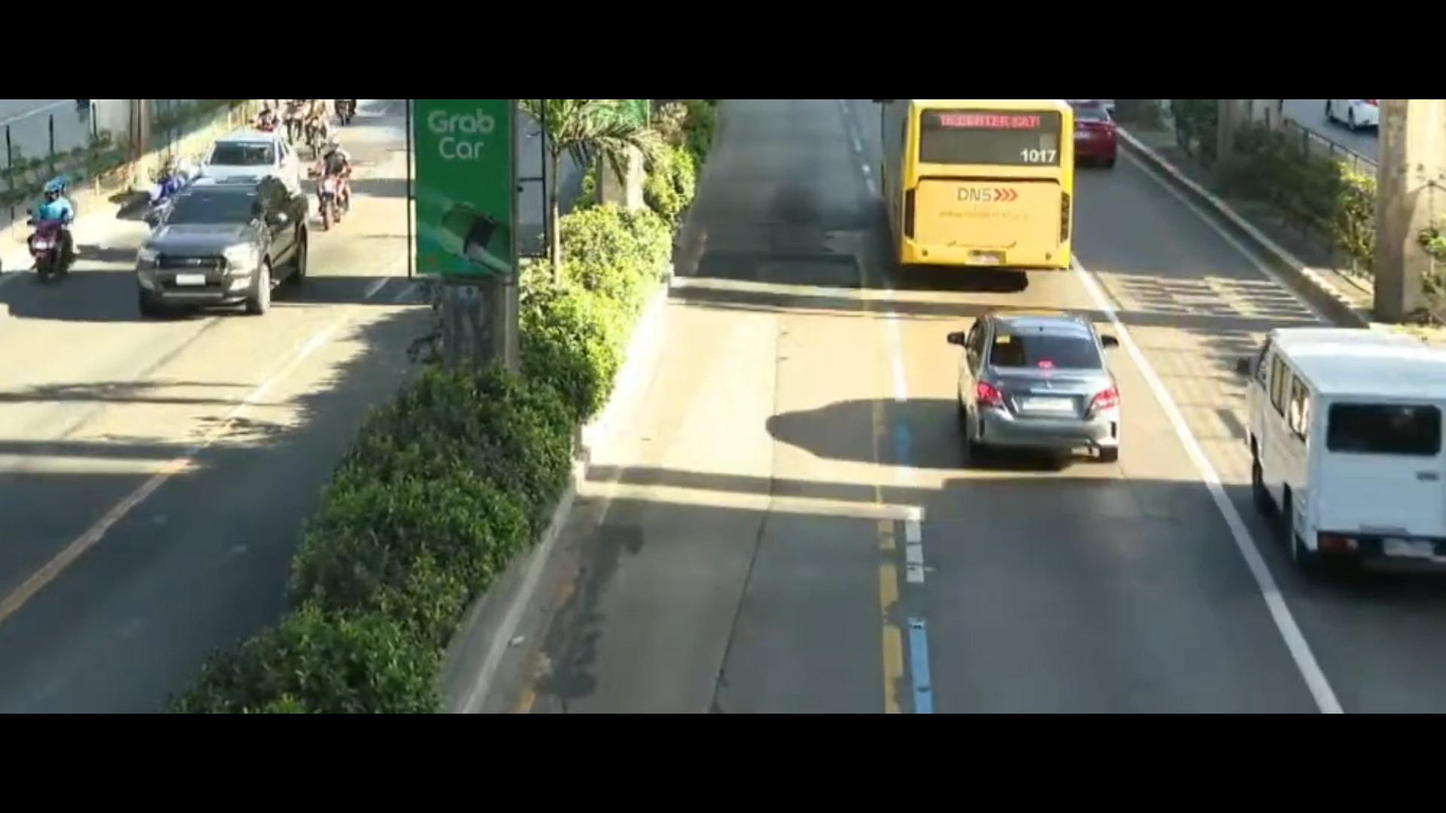Bus: (878, 101, 1086, 286)
Motorcycle: (26, 166, 91, 289), (144, 142, 209, 215), (318, 149, 366, 227), (300, 106, 343, 149), (279, 98, 316, 136), (249, 96, 274, 133)
Multicab: (1185, 273, 1446, 572)
Pickup: (135, 174, 317, 328)
Sedan: (925, 304, 1130, 491), (199, 125, 300, 190), (1068, 94, 1141, 178)
